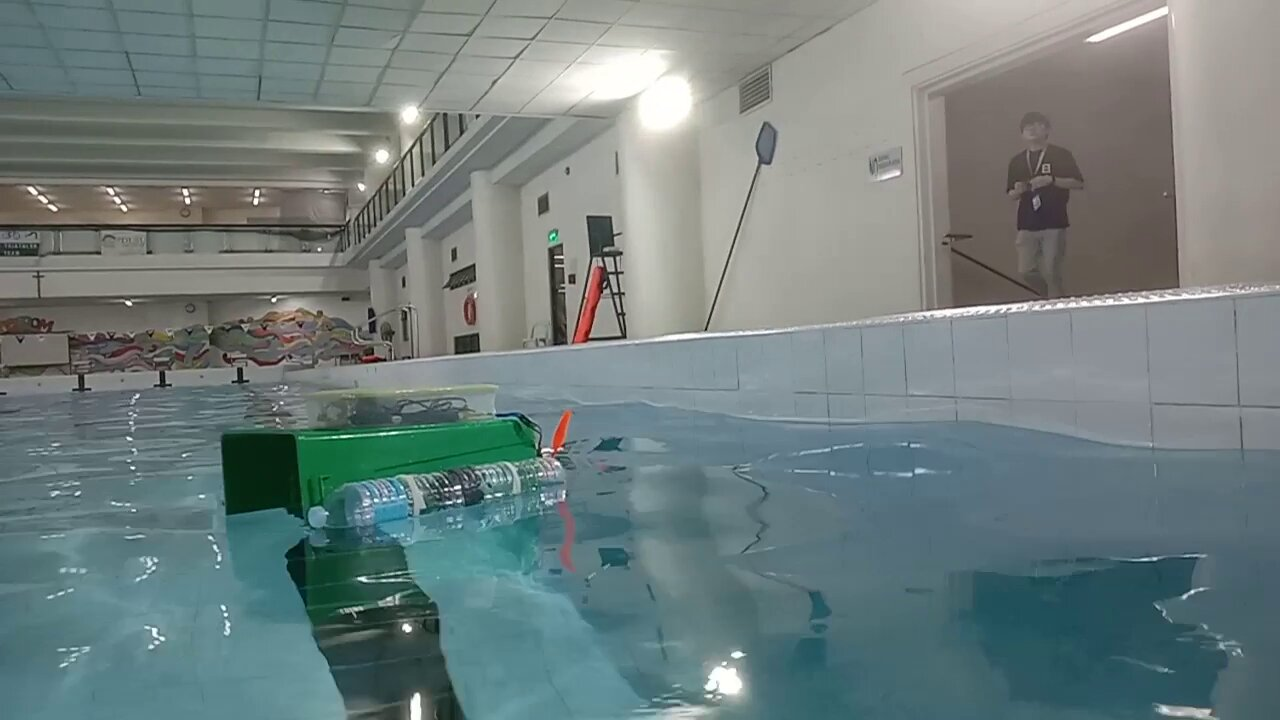drone: (220, 386, 571, 530)
